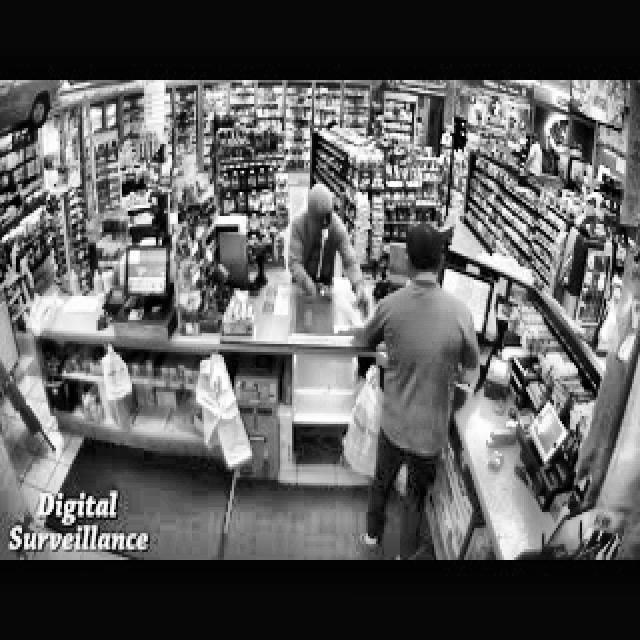robbery: (284, 180, 384, 326)
